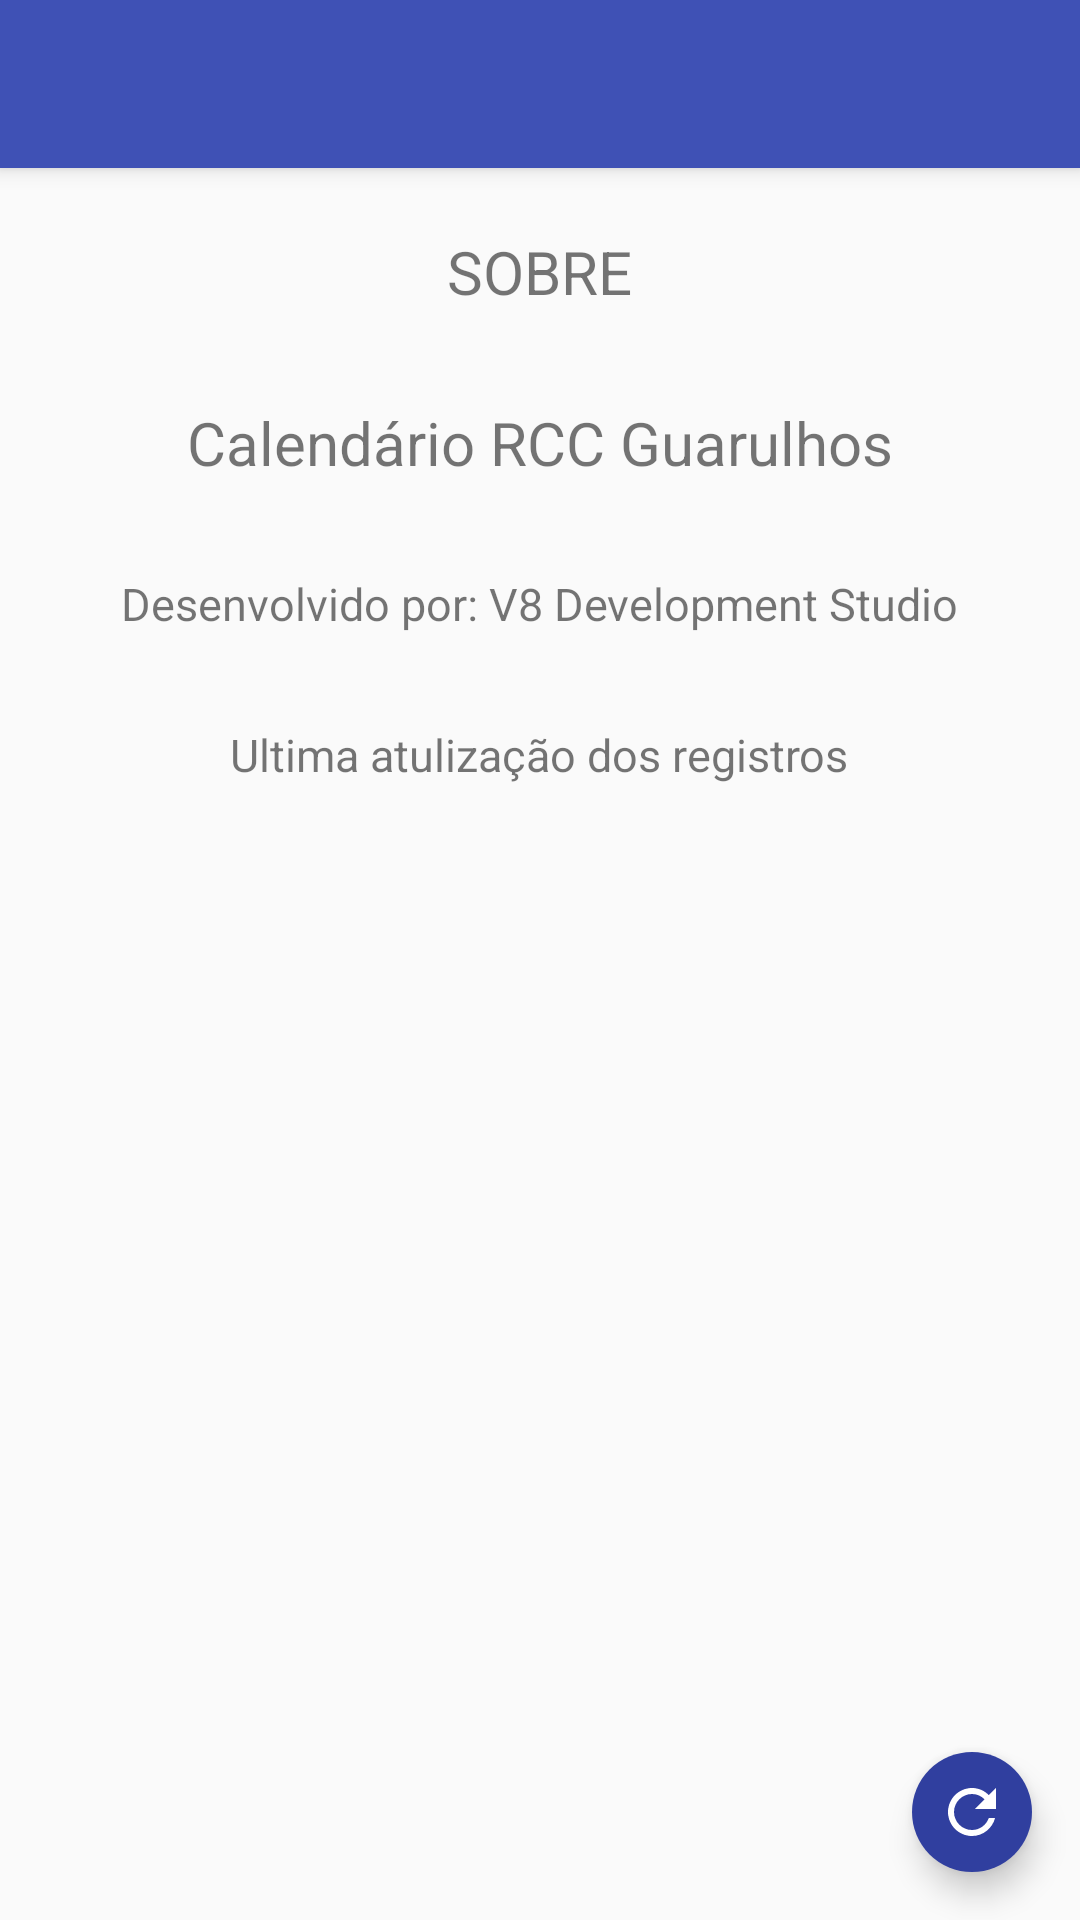

Named icons in this screenshot (1080×1920) and their centers, [x,y]:
refresh: [972,1812]
